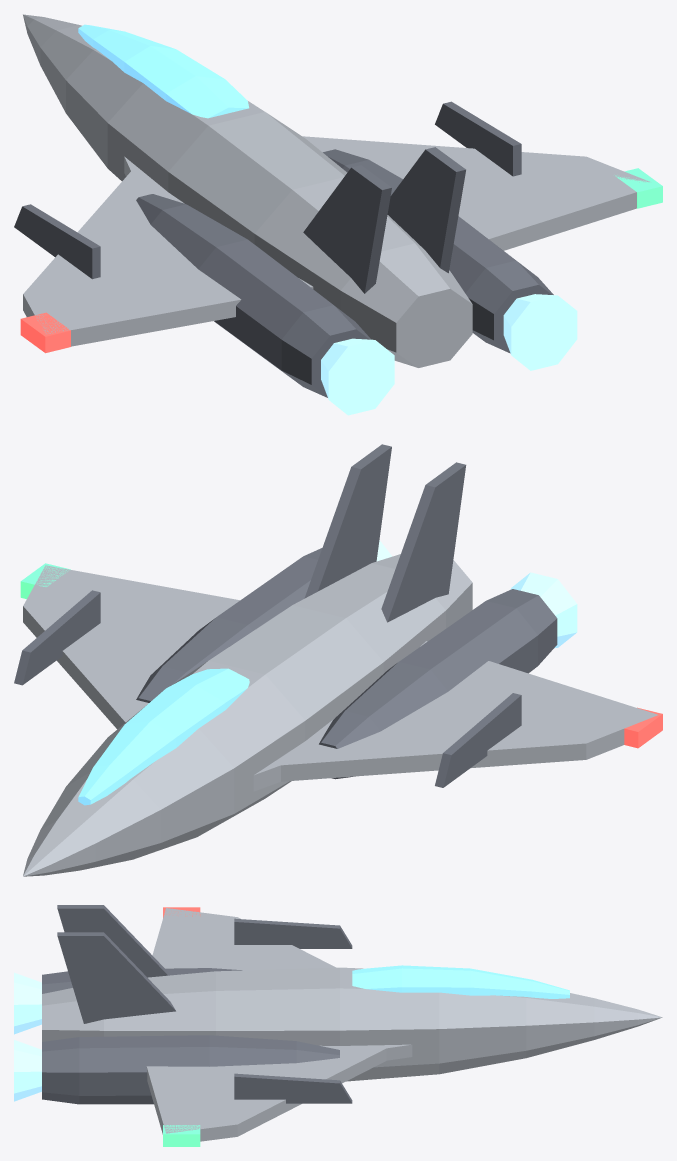
The model's file is harrier.glb.
The picture shows the model from 3 angles, top to bottom: view 1: azimuth 30°, elevation 25°; view 2: azimuth 150°, elevation 25°; view 3: azimuth 270°, elevation 25°; orthographic projection. The views are drawn at different scales.
Parts seen in each view (by area): view 1: harrier; view 2: harrier; view 3: harrier.
Part boxes in pixels (x1,y1,x2,y2): harrier: (14,14,662,415); harrier: (14,444,662,876); harrier: (14,905,662,1146).
Bounding box in the file's own units: 0.866 × 0.2681 × 1.05.
